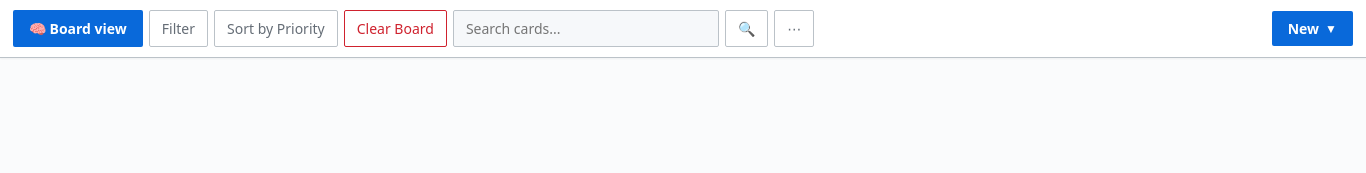
Test: KanbanToolbar › New Button Dropdown › should show new dropdown when new button is clicked
The image size is (1366, 173).
Click the button "New ▼".
click(1312, 28)  # box [1272,11,1353,46]
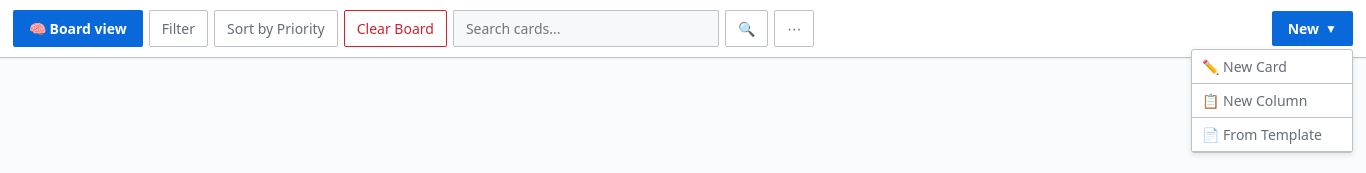
Now the text "✏️ New Card" is shown, box [1192,50,1352,84]
Now the text "📋 New Column" is shown, box [1192,84,1352,118]
Now the text "📄 From Template" is shown, box [1192,118,1352,152]
